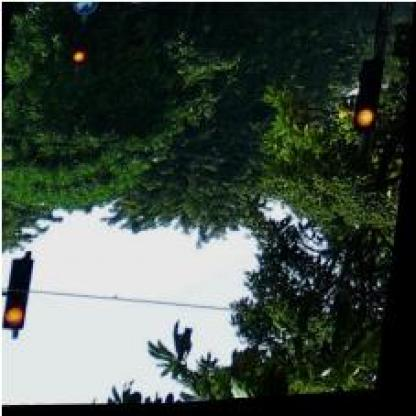red: (3, 256, 34, 330), (356, 62, 384, 136)
